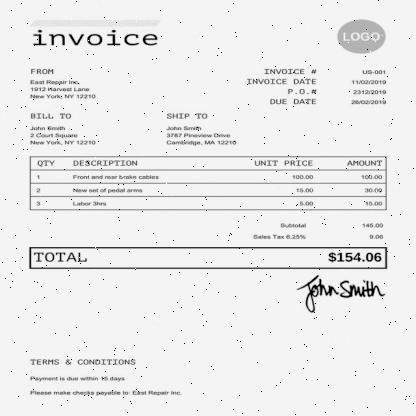Paragraph: (31, 248, 387, 268), (26, 358, 184, 398), (245, 67, 389, 107), (250, 220, 386, 242), (164, 111, 239, 147), (30, 28, 160, 48), (27, 112, 98, 146), (27, 68, 98, 100), (340, 31, 382, 42)
Table: (30, 157, 386, 209)
